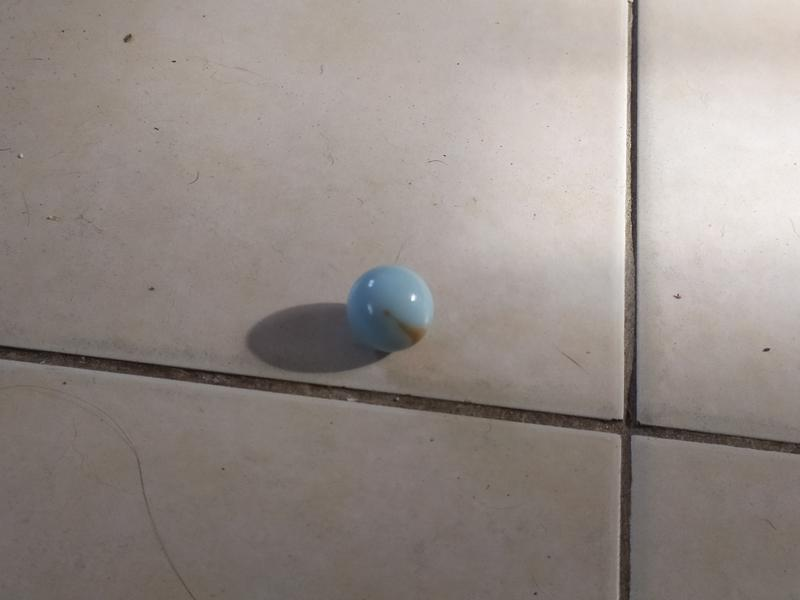Warning: (340, 259, 440, 357)
